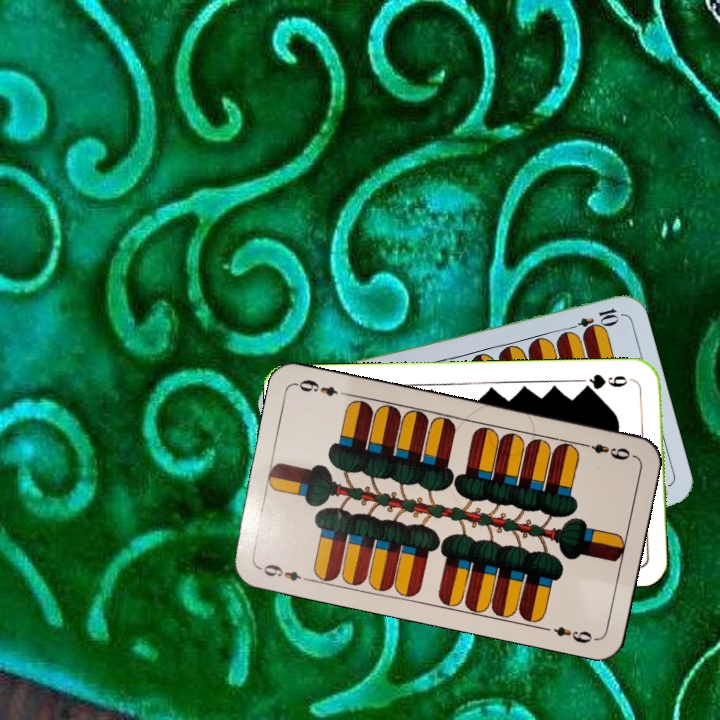E10: (563, 304, 621, 335)
E9: (255, 560, 313, 585), (577, 439, 633, 463)
G9: (578, 370, 637, 393)
